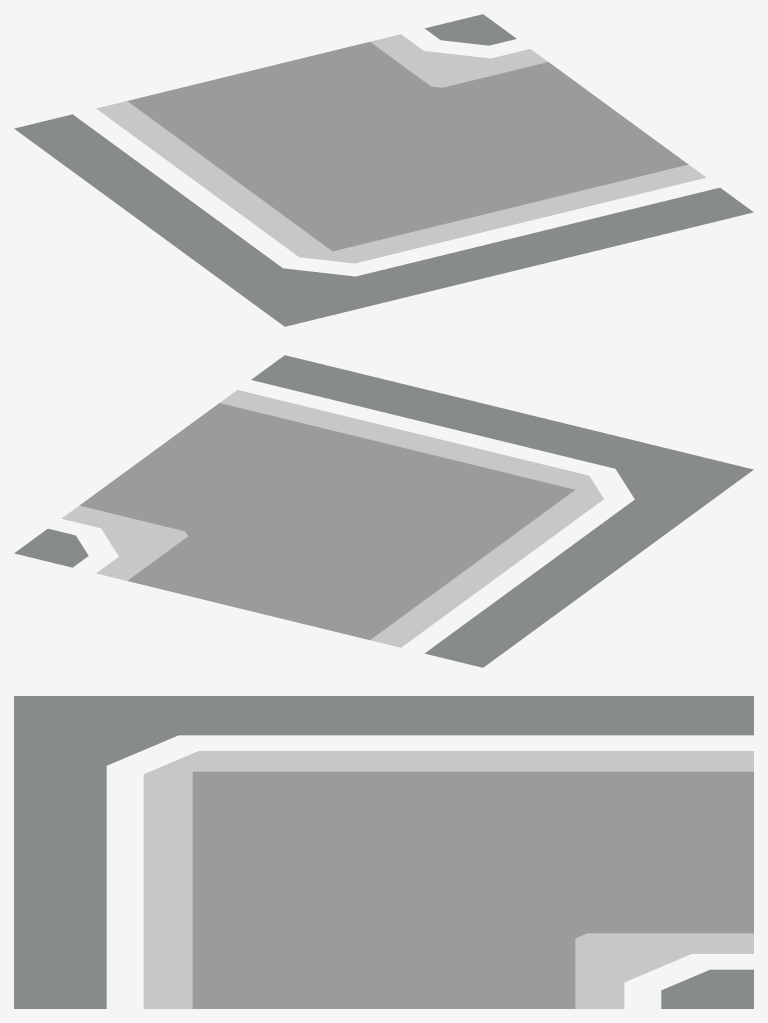
The model's file is Ceiling_type_A_033.glb.
3 views of the same model, one above another, from view 1: azimuth 30°, elevation 25°; view 2: azimuth 150°, elevation 25°; view 3: azimuth 270°, elevation 25° (orthographic). The views are drawn at different scales.
Visible parts, largest first — view 1: Ceiling_type_A_033; view 2: Ceiling_type_A_033; view 3: Ceiling_type_A_033.
Boxes of the visible parts, bbox=[...] form: Ceiling_type_A_033: bbox=[14, 14, 753, 326]; Ceiling_type_A_033: bbox=[14, 355, 753, 667]; Ceiling_type_A_033: bbox=[14, 696, 753, 1008].
Size of the model in its own units: 4 by 0.0618 by 4.
2 materials, 2 textured.
